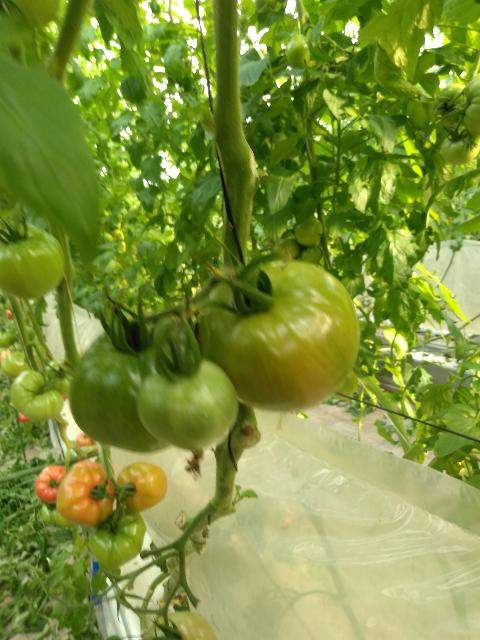b_fully_ripened: (35, 466, 71, 502)
b_green: (198, 260, 362, 414), (69, 320, 200, 454), (134, 356, 240, 450), (0, 224, 65, 298), (90, 505, 146, 568), (11, 371, 64, 422), (147, 611, 219, 640), (439, 128, 480, 165), (433, 83, 467, 125), (463, 73, 480, 136)
b_half_ripened: (56, 467, 115, 526), (117, 462, 168, 513)
